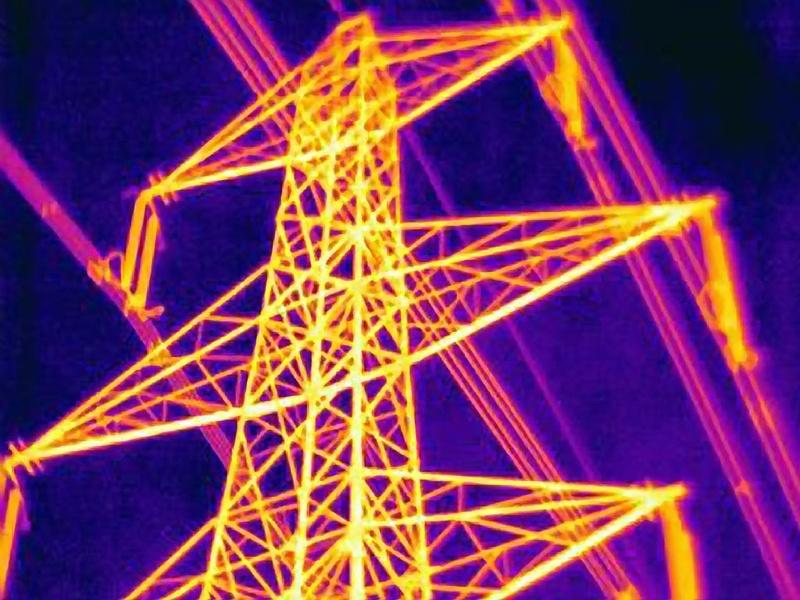power_tower: (56, 11, 738, 590)
